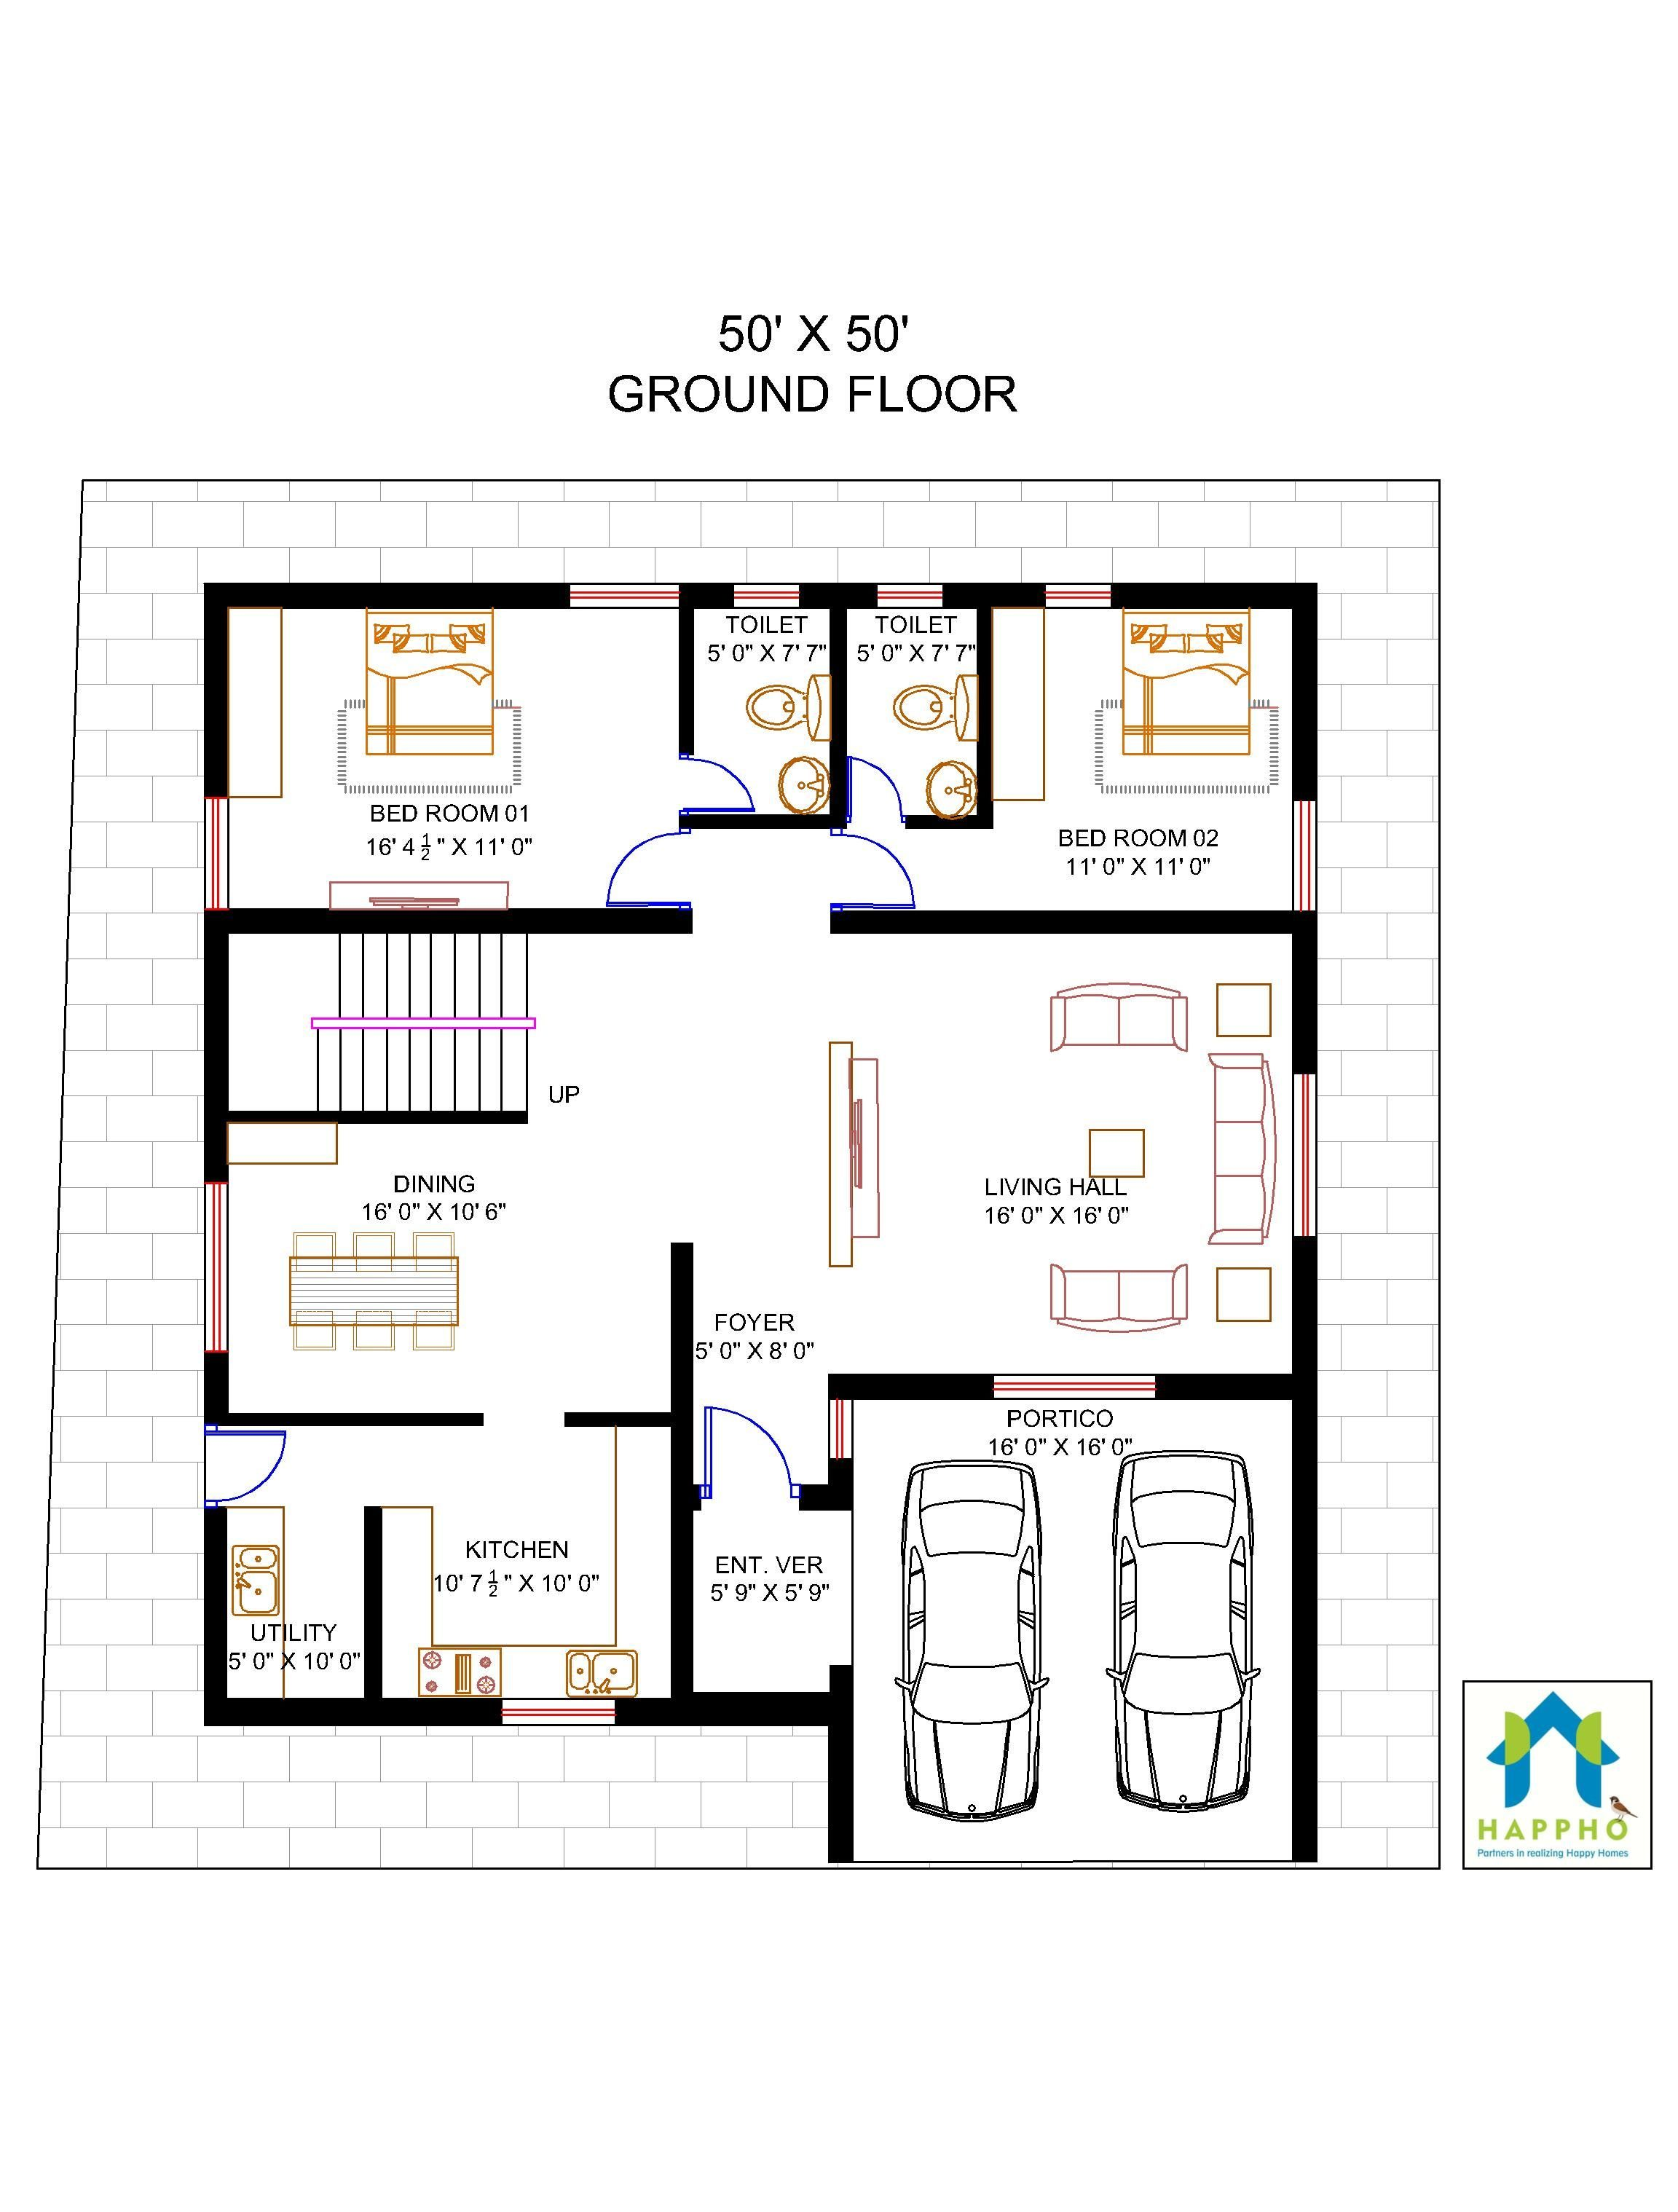room: (843, 915, 1308, 1385), (210, 582, 684, 909), (201, 1123, 680, 1419), (980, 598, 1311, 906), (370, 1422, 687, 1713), (210, 1412, 374, 1711), (687, 596, 844, 823), (832, 592, 989, 818)
